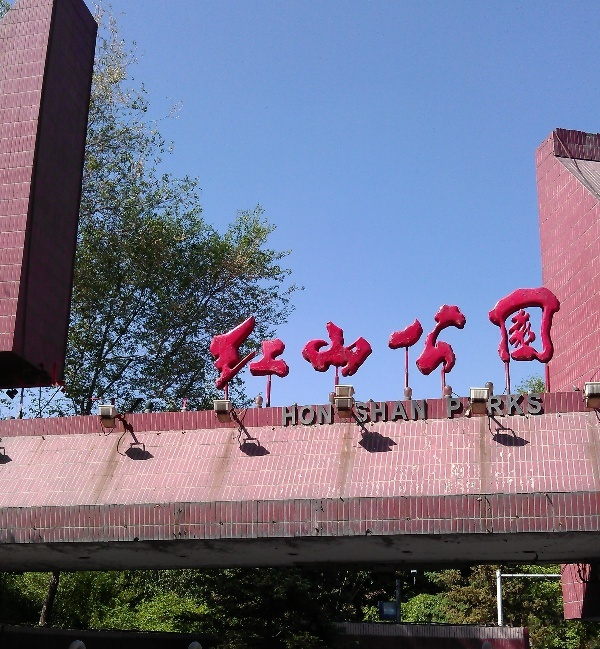text: (545, 284, 561, 394), (209, 284, 224, 394), (225, 284, 240, 394), (241, 284, 256, 394), (257, 284, 272, 394), (273, 284, 288, 394), (289, 284, 304, 394), (305, 284, 320, 394), (321, 284, 336, 394), (337, 284, 352, 394), (353, 284, 368, 394), (369, 284, 384, 394), (385, 284, 400, 394), (401, 284, 416, 394), (417, 284, 432, 394), (433, 284, 448, 394), (449, 284, 464, 394), (465, 284, 480, 394), (481, 284, 496, 394), (497, 284, 512, 394), (513, 284, 528, 394), (529, 284, 544, 394), (289, 404, 304, 428), (305, 404, 320, 428), (369, 399, 384, 423), (385, 399, 400, 423), (401, 399, 416, 423), (497, 393, 512, 417), (513, 393, 528, 417), (529, 393, 544, 417), (354, 399, 368, 423), (321, 404, 334, 428), (417, 399, 428, 423), (449, 398, 461, 419), (486, 393, 496, 417), (281, 404, 288, 428), (447, 398, 448, 419)
